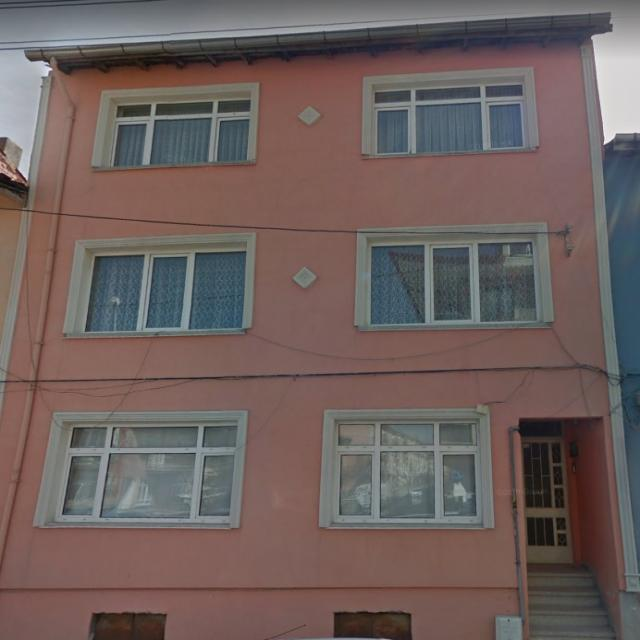Building: (0, 14, 639, 640)
